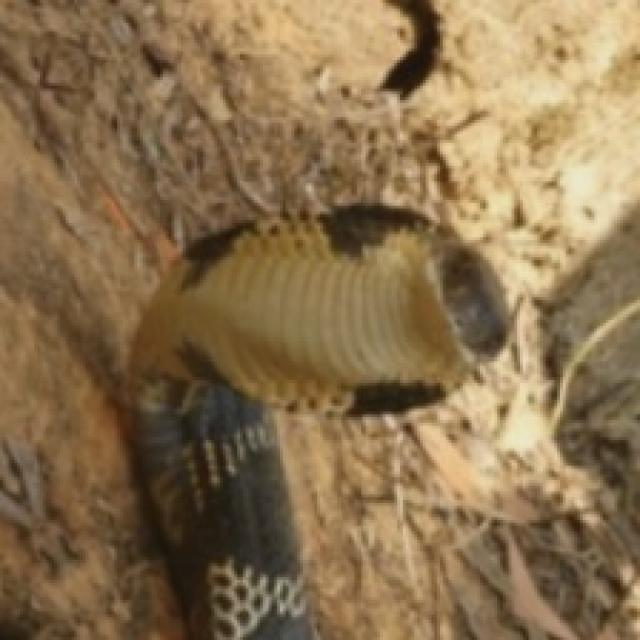king cobra: (131, 203, 506, 637)
